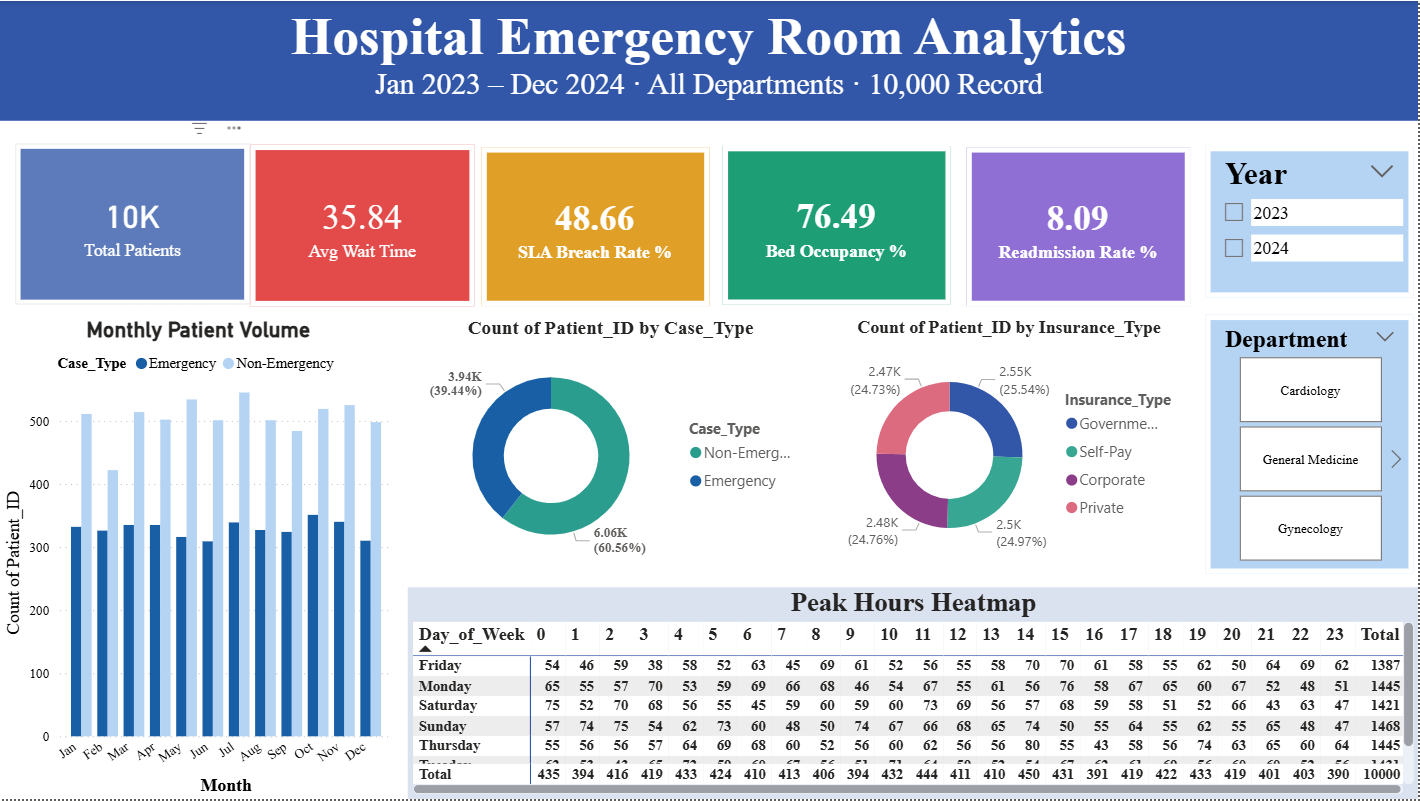

The dashboard page shown, as its layout file describes it:
{"tool":"powerbi","page":{"name":"Overview","canvas":[1280,720],"ordinal":0},"visuals":[{"type":"card","fields":{"Values":["Hospital_ER_Dataset.Total Patients"]},"box":[14.9,128.1,211.5,145.5],"z":0},{"type":"card","fields":{"Values":["Hospital_ER_Dataset.Bed Occupancy %"]},"box":[653.1,130.6,205.3,143.1],"z":1000},{"type":"card","fields":{"Values":["Hospital_ER_Dataset.Readmission Rate %"]},"box":[872,131.9,201.5,143.1],"z":2000},{"type":"card","fields":{"Values":["Hospital_ER_Dataset.Avg Wait Time"]},"box":[226.4,129.4,202.8,145.5],"z":3000},{"type":"card","fields":{"Values":["Hospital_ER_Dataset.SLA Breach Rate %"]},"box":[435.4,131.9,205.3,143.1],"z":4000},{"type":"clusteredColumnChart","title":"Monthly Patient Volume","fields":{"Category":["DateTable.Month"],"Series":["Hospital_ER_Dataset.Case_Type"],"Y":["CountNonNull(Hospital_ER_Dataset.Patient_ID)"]},"box":[0,284.9,359.5,435.4],"z":5000},{"type":"donutChart","fields":{"Category":["Hospital_ER_Dataset.Case_Type"],"Y":["CountNonNull(Hospital_ER_Dataset.Patient_ID)"]},"box":[368.2,284.9,365.7,231.4],"z":6000},{"type":"donutChart","fields":{"Category":["Hospital_ER_Dataset.Insurance_Type"],"Y":["CountNonNull(Hospital_ER_Dataset.Patient_ID)"]},"box":[748.9,284.9,324.7,231.4],"z":7000},{"type":"pivotTable","title":"Peak Hours Heatmap","fields":{"Rows":["Hospital_ER_Dataset.Day_of_Week"],"Columns":["Hospital_ER_Dataset.Arrival_Hour"],"Values":["Hospital_ER_Dataset.Total Patients"]},"box":[368.2,528.7,911.8,191.6],"z":8000},{"type":"slicer","fields":{"Values":["Hospital_ER_Dataset.Department"]},"box":[1087.2,282.4,187.8,233.9],"z":9000},{"type":"slicer","fields":{"Values":["DateTable.Year"]},"box":[1087.2,130.6,187.8,136.8],"z":10000},{"type":"shape","box":[0,0,1280,108.2],"z":11000},{"type":"textbox","title":"Hospital Emergency Room Analytics                      Jan 2023 – Dec 2024 · All Departments · 10,000 Record","box":[0,0,1280,108.2],"z":12000}]}

Visuals, with their boxes on the page's 1280x720 design canvas (x1, y1, x2, y2). These are canvas units, not pixel positions in the 1420x801 screenshot, which may show the page scaled, cropped or inside an application window:
card - Hospital_ER_Dataset.Total Patients: locate(15, 128, 226, 274)
card - Hospital_ER_Dataset.Bed Occupancy %: locate(653, 131, 858, 274)
card - Hospital_ER_Dataset.Readmission Rate %: locate(872, 132, 1074, 275)
card - Hospital_ER_Dataset.Avg Wait Time: locate(226, 129, 429, 275)
card - Hospital_ER_Dataset.SLA Breach Rate %: locate(435, 132, 641, 275)
"Monthly Patient Volume" clusteredColumnChart: locate(0, 285, 360, 720)
donutChart - Hospital_ER_Dataset.Case_Type x CountNonNull(Hospital_ER_Dataset.Patient_ID): locate(368, 285, 734, 516)
donutChart - Hospital_ER_Dataset.Insurance_Type x CountNonNull(Hospital_ER_Dataset.Patient_ID): locate(749, 285, 1074, 516)
"Peak Hours Heatmap" pivotTable: locate(368, 529, 1280, 720)
slicer - Hospital_ER_Dataset.Department: locate(1087, 282, 1275, 516)
slicer - DateTable.Year: locate(1087, 131, 1275, 267)
shape: locate(0, 0, 1280, 108)
"Hospital Emergency Room Analytics                      Jan 2023 – Dec 2024 · All Departments · 10,000 Record" textbox: locate(0, 0, 1280, 108)
